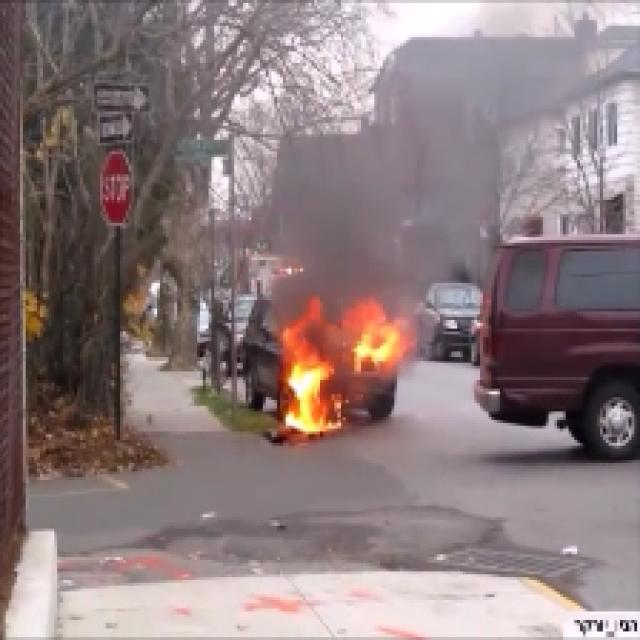fire: (290, 316, 395, 430)
smoke: (301, 147, 439, 301)
